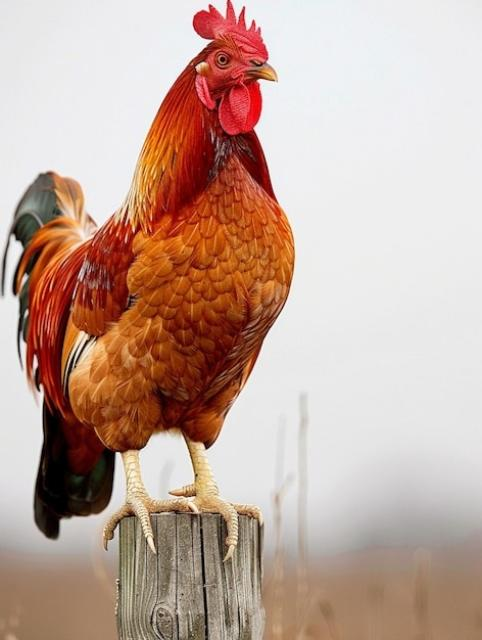Chicken: (2, 0, 295, 561)
